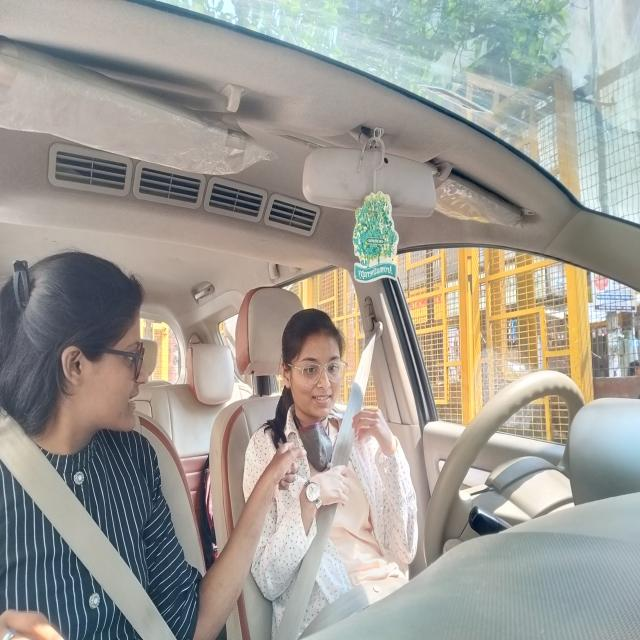person: (0, 244, 152, 452), (274, 303, 355, 437)
